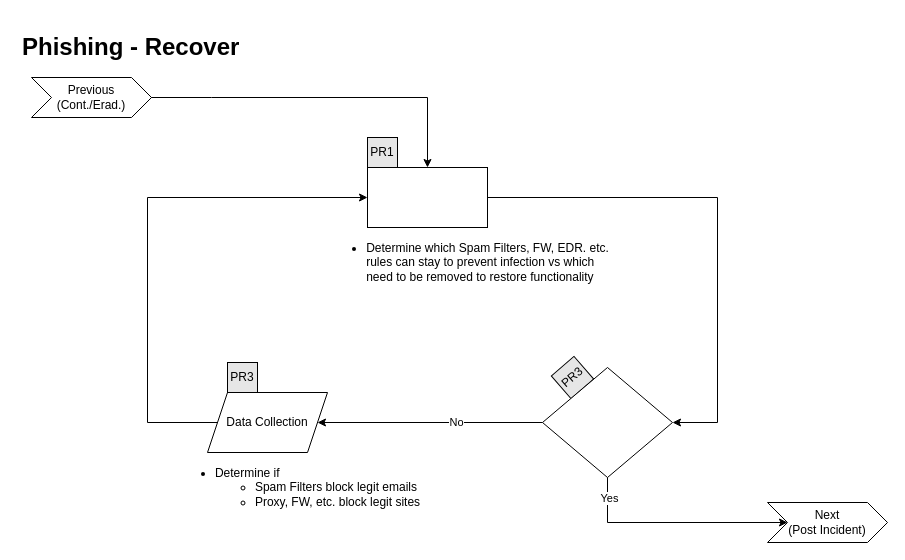
The diagram is 905 pixels wide and 560 high, and some of its shapes have lost their labels. The centre of each missing label's shape, as x and y in pixels:
All Affected Enpoints ID'ed: the point at 607,422
Update Defenses: the point at 427,197
